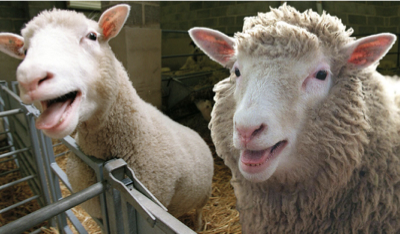koyun: (193, 10, 398, 183), (1, 6, 131, 140)
